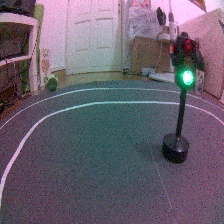green: (161, 31, 200, 170)
